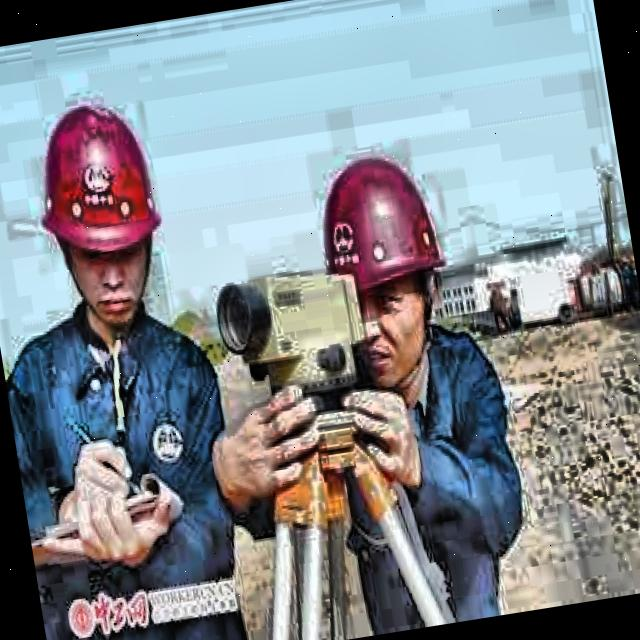helmet: (12, 66, 194, 352), (310, 122, 478, 406)
